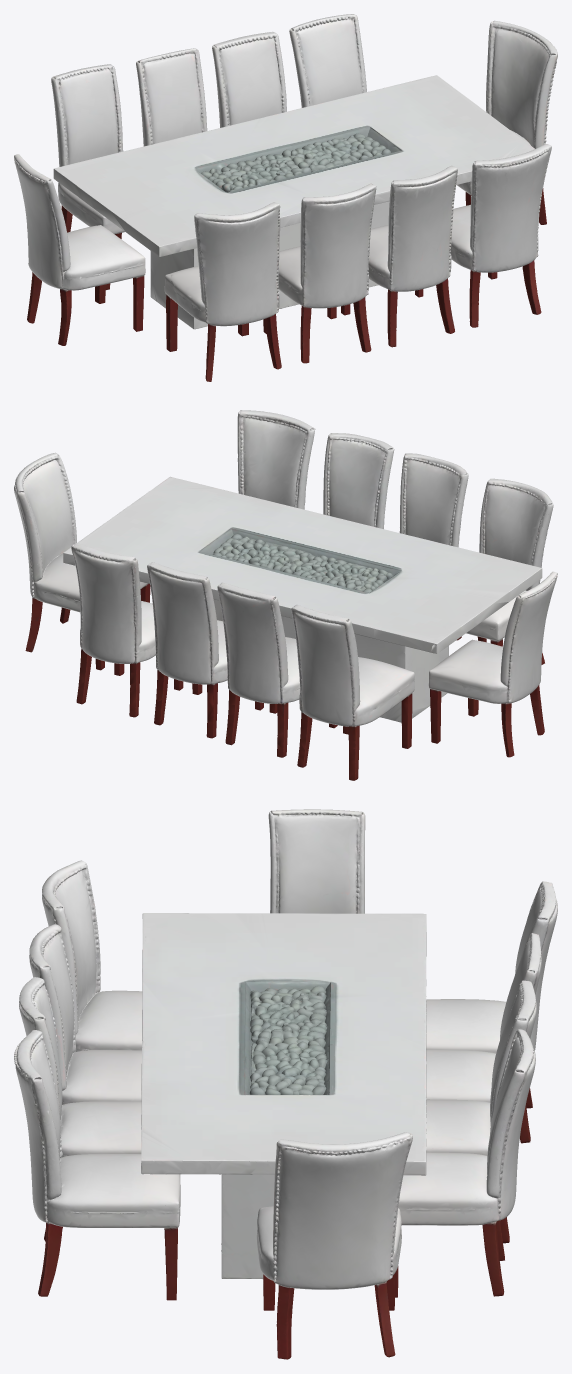
Rendered from dining-chairs.glb.
3 views of the same model, one above another, from view 1: azimuth 30°, elevation 25°; view 2: azimuth 150°, elevation 25°; view 3: azimuth 270°, elevation 25° (orthographic). The views are drawn at different scales.
Visible parts, largest first — view 1: model; view 2: model; view 3: model.
Part boxes in pixels (x1,y1,x2,y2): model: [14, 14, 557, 381]; model: [14, 410, 557, 780]; model: [14, 809, 557, 1359].
Size of the model in its own units: 1.9 by 0.5872 by 1.28.
1 material, 1 textured.
